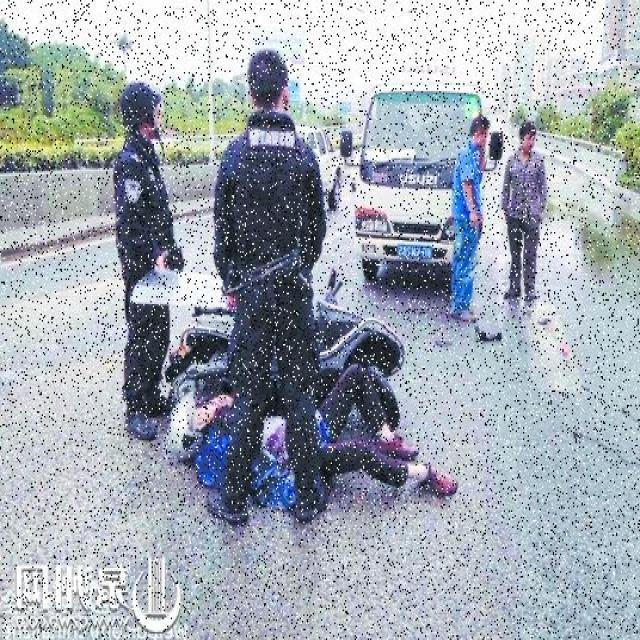fall: (176, 372, 432, 501)
